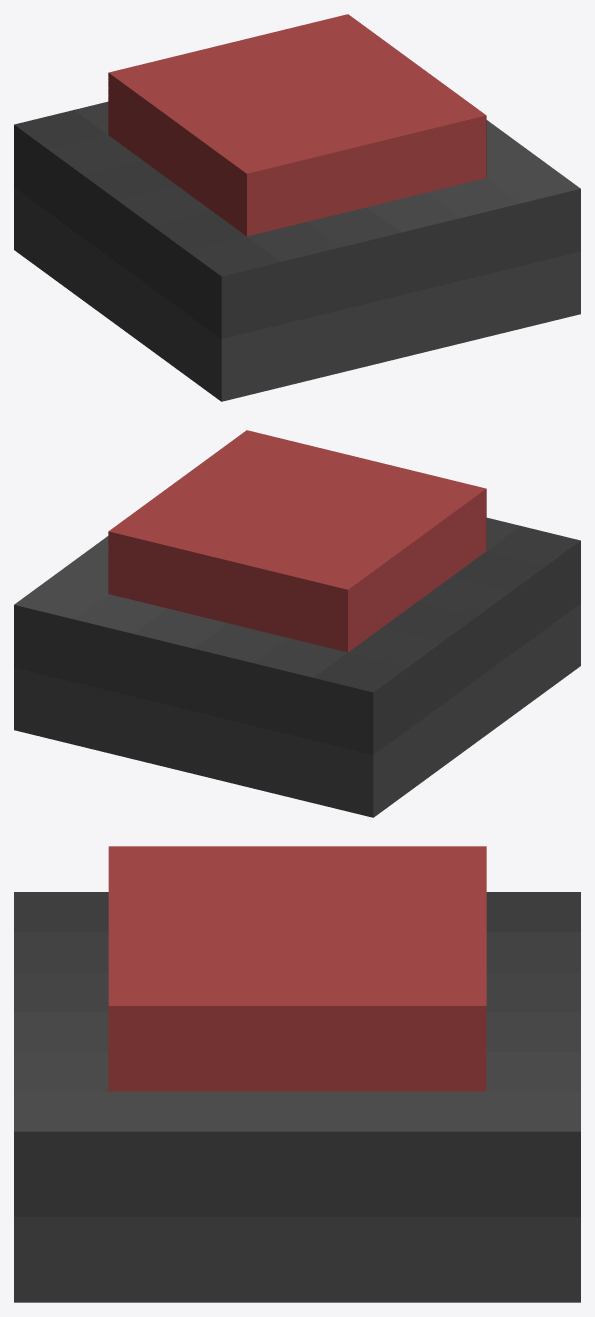
Rendered from door-button.gltf.
3 renders of one model, top to bottom at view 1: azimuth 30°, elevation 25°; view 2: azimuth 150°, elevation 25°; view 3: azimuth 270°, elevation 25°, orthographic. The views are drawn at different scales.
Parts seen in each view (by area): view 1: cuboid (×2); view 2: cuboid (×2); view 3: cuboid (×2).
Part boxes in pixels (x1,y1,x2,y2): cuboid (×2): (14, 14, 580, 401); cuboid (×2): (14, 430, 580, 817); cuboid (×2): (14, 846, 580, 1302).
Size of the model in its own units: 0.375 by 0.1875 by 0.375.
1 material, 1 textured.
